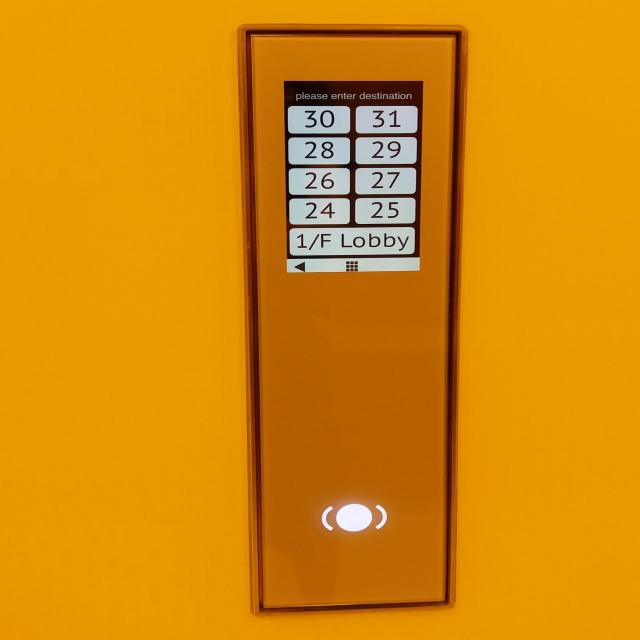24: (288, 197, 351, 226)
25: (353, 196, 417, 225)
26: (287, 166, 351, 196)
27: (354, 166, 417, 195)
28: (286, 136, 352, 165)
29: (354, 136, 418, 164)
30: (286, 104, 352, 135)
31: (354, 104, 419, 134)
text: (288, 225, 416, 257)
